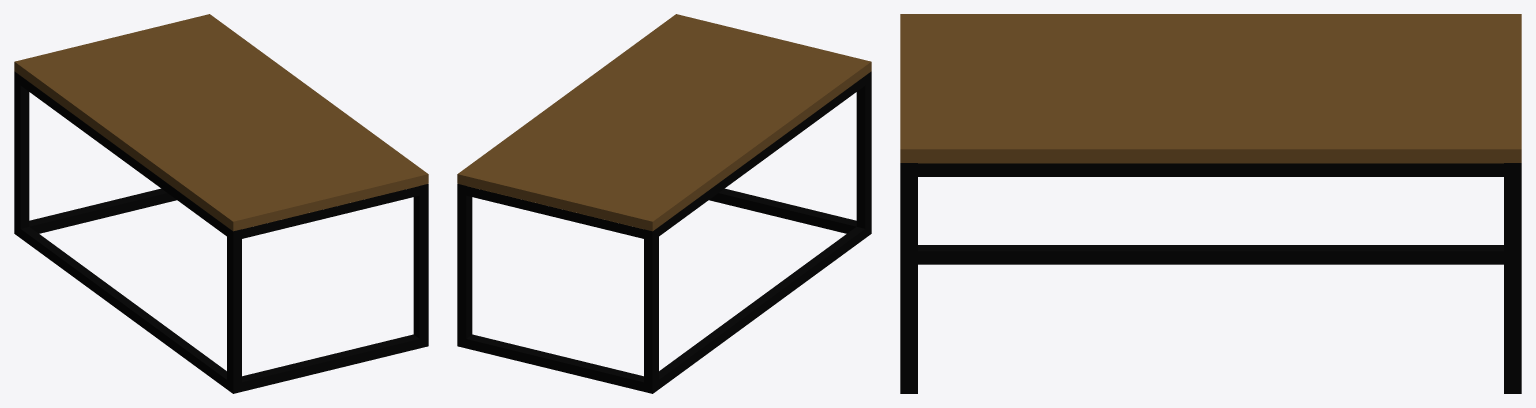
File: desk.glb
3 renders of one model, left to right at view 1: azimuth 30°, elevation 25°; view 2: azimuth 150°, elevation 25°; view 3: azimuth 270°, elevation 25°, orthographic. The views are drawn at different scales.
Parts seen in each view (by area): view 1: Cube007_1, Cube007; view 2: Cube007_1, Cube007; view 3: Cube007_1, Cube007.
Boxes of the visible parts, left/top/right/bottom form: Cube007_1: left=14, top=14, right=428, bottom=231; Cube007: left=14, top=71, right=428, bottom=393; Cube007_1: left=457, top=14, right=871, bottom=231; Cube007: left=457, top=71, right=871, bottom=393; Cube007_1: left=900, top=14, right=1521, bottom=163; Cube007: left=900, top=163, right=1521, bottom=393.
Size of the model in its own units: 1.23 by 1.04 by 2.39.
